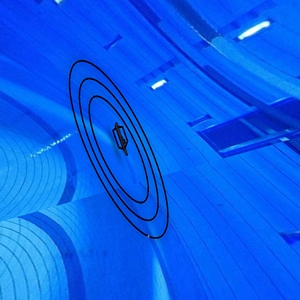circle: (63, 55, 183, 244)
submarine: (109, 119, 132, 161)
